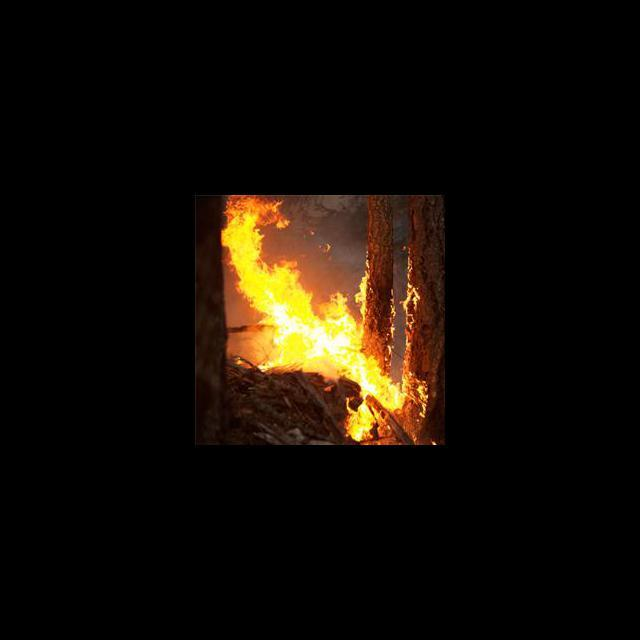Fire: (222, 195, 422, 434)
